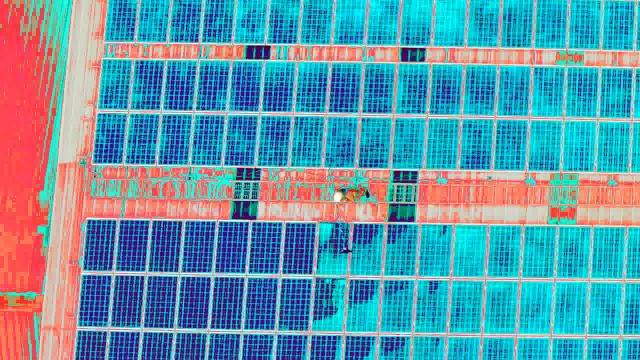clean: (79, 218, 117, 275), (112, 216, 150, 273), (146, 214, 184, 271), (177, 217, 215, 274), (205, 216, 243, 273), (242, 216, 280, 273), (276, 217, 314, 274), (279, 277, 317, 334), (240, 274, 278, 331), (204, 273, 242, 330), (174, 272, 212, 329), (143, 274, 181, 331), (112, 272, 150, 329), (80, 270, 118, 327)
dirty: (313, 219, 353, 278), (347, 218, 387, 277), (379, 219, 419, 278), (413, 222, 453, 281), (452, 221, 492, 280), (483, 221, 523, 280), (520, 221, 560, 280), (556, 224, 596, 283), (590, 225, 630, 284), (586, 277, 626, 336), (547, 279, 587, 338), (513, 278, 553, 337), (444, 280, 484, 339), (479, 277, 519, 336), (414, 277, 454, 336), (377, 275, 417, 334), (346, 278, 386, 337), (315, 273, 355, 332)
semi: (96, 57, 133, 113), (129, 55, 166, 111), (157, 55, 194, 111), (188, 59, 225, 115), (225, 57, 262, 113), (262, 58, 299, 114), (294, 57, 331, 113), (323, 59, 360, 115), (357, 58, 394, 114), (393, 57, 430, 113), (430, 60, 467, 116), (463, 62, 500, 118), (493, 60, 530, 116), (526, 62, 563, 118), (564, 64, 601, 120), (600, 65, 637, 121), (598, 118, 635, 174), (562, 116, 599, 172), (528, 117, 565, 173), (489, 114, 526, 170), (458, 113, 495, 169), (424, 114, 461, 170), (390, 112, 427, 168), (356, 109, 393, 165), (324, 111, 361, 167), (293, 111, 330, 167), (252, 109, 289, 165), (224, 111, 261, 167), (186, 110, 223, 166), (157, 108, 194, 164), (122, 109, 159, 165), (89, 110, 126, 166)
